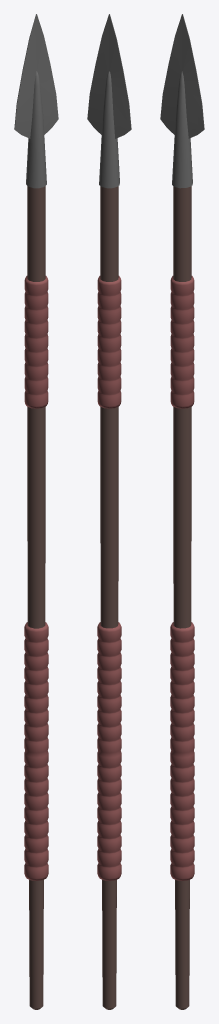
Rendered from Spear.fbx.
3 renders of one model, left to right at view 1: azimuth 30°, elevation 25°; view 2: azimuth 150°, elevation 25°; view 3: azimuth 330°, elevation 25°, orthographic.
Visible parts, largest first — view 1: Cylinder; view 2: Cylinder; view 3: Cylinder.
Boxes of the visible parts, <box> form: Cylinder: <box>14,14,58,1009</box>; Cylinder: <box>87,14,131,1009</box>; Cylinder: <box>160,14,204,1009</box>.
Size of the model in its own units: 516 by 11145 by 246.
